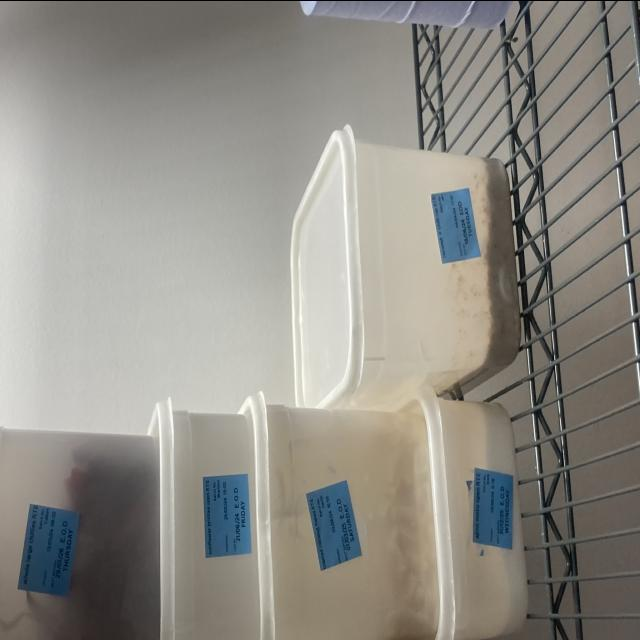product-labels: (17, 501, 81, 597), (306, 480, 363, 568), (429, 184, 485, 265), (204, 470, 252, 558), (472, 468, 516, 547)
